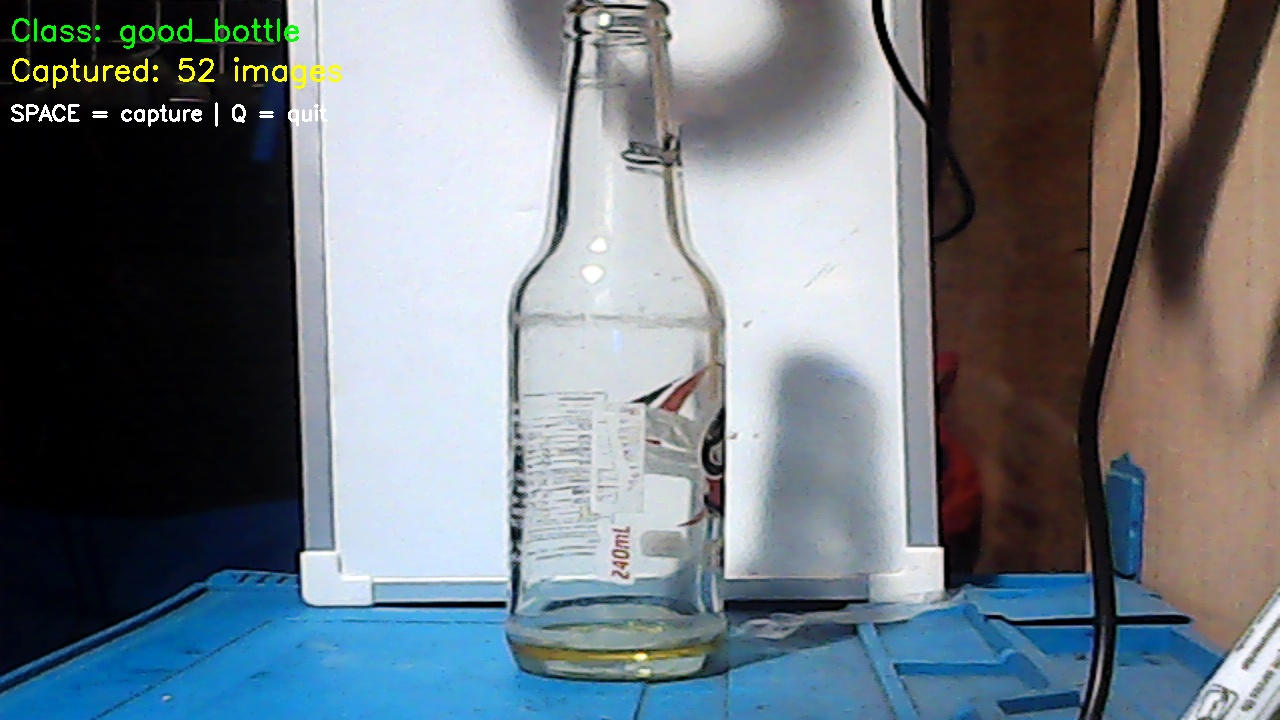good_bottle: (493, 7, 737, 678)
